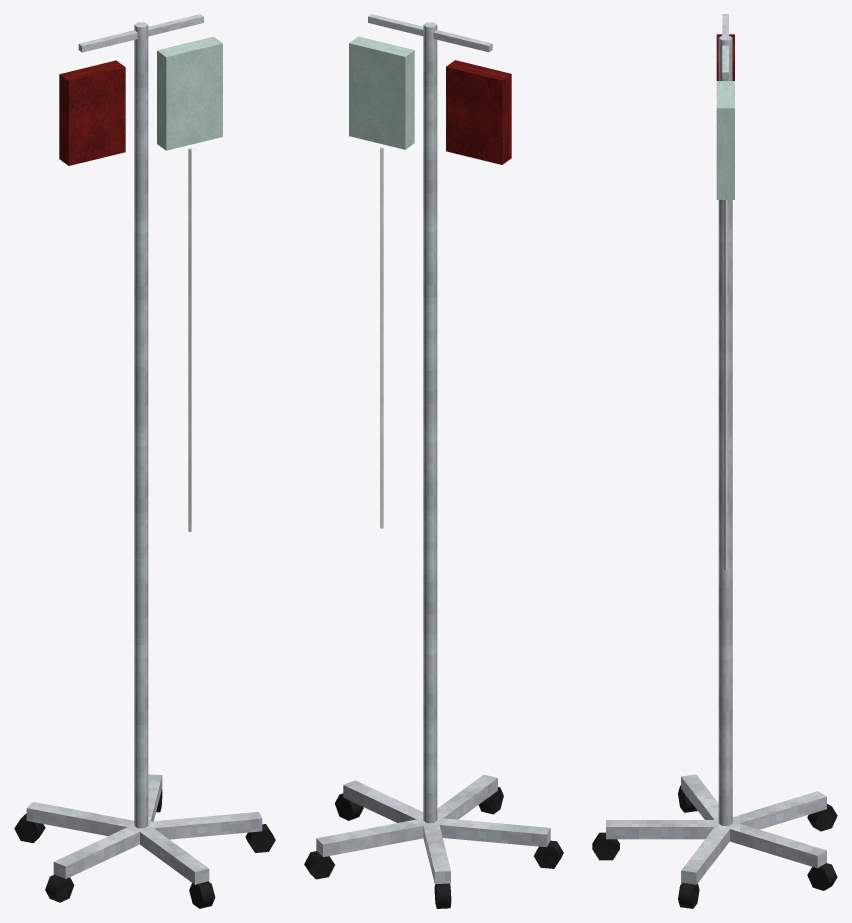
The model's file is tfg_iv_stand.glb.
The picture shows the model from 3 angles, left to right: view 1: azimuth 30°, elevation 25°; view 2: azimuth 150°, elevation 25°; view 3: azimuth 270°, elevation 25°; orthographic projection.
Visible parts, largest first — view 1: tfg_iv_stand; view 2: tfg_iv_stand; view 3: tfg_iv_stand.
Boxes of the visible parts, x1=… form: tfg_iv_stand: x1=14, y1=14, x2=275, y2=908; tfg_iv_stand: x1=304, y1=14, x2=563, y2=908; tfg_iv_stand: x1=592, y1=14, x2=837, y2=908.
Bounding box in the file's own units: 0.5609 × 1.97 × 0.5334.
5 materials, 5 textured.
